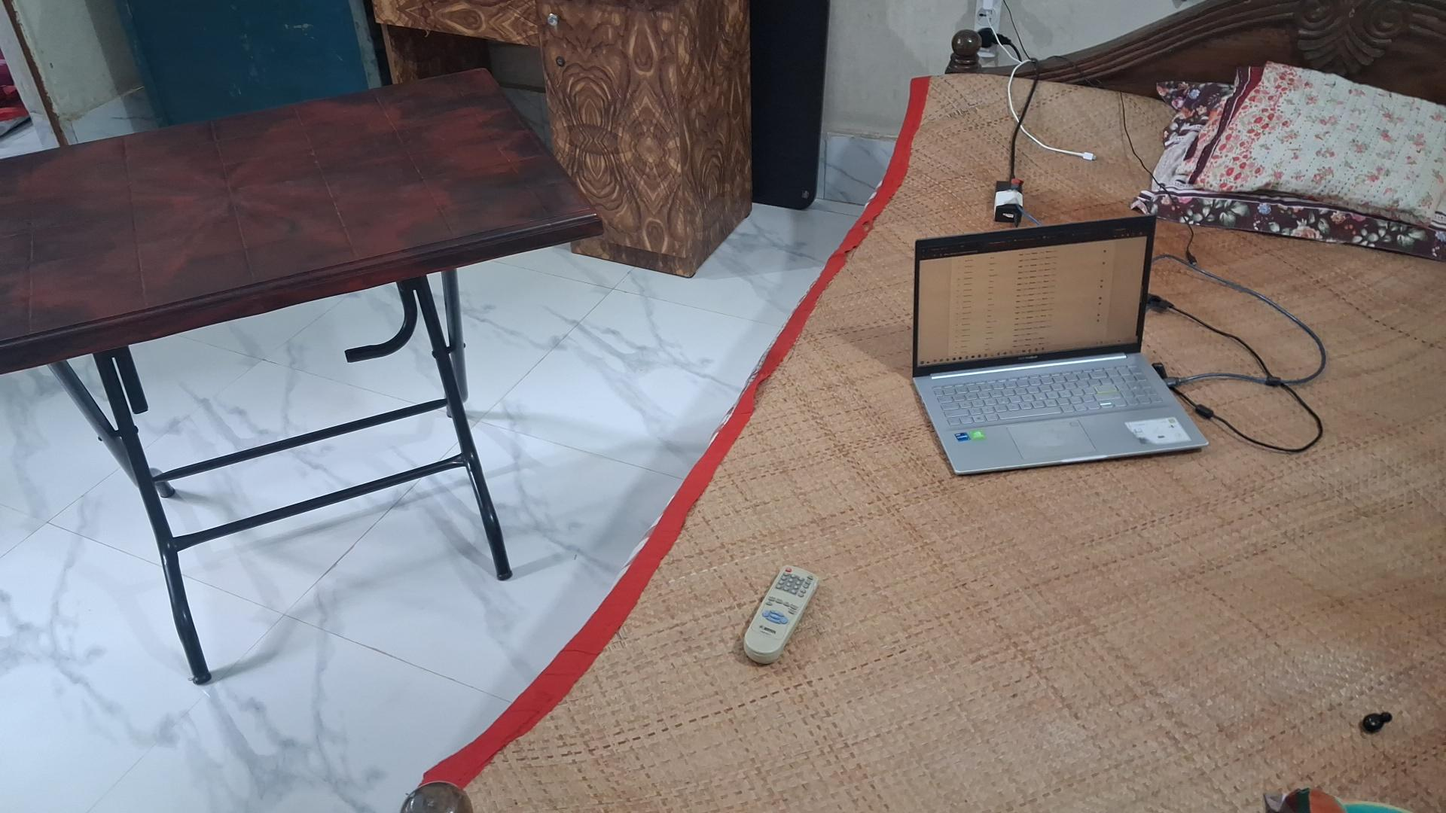Blanket: (1186, 62, 1446, 223)
Laptop: (910, 212, 1210, 477)
Remote: (740, 559, 819, 662)
Table: (2, 67, 603, 687)
